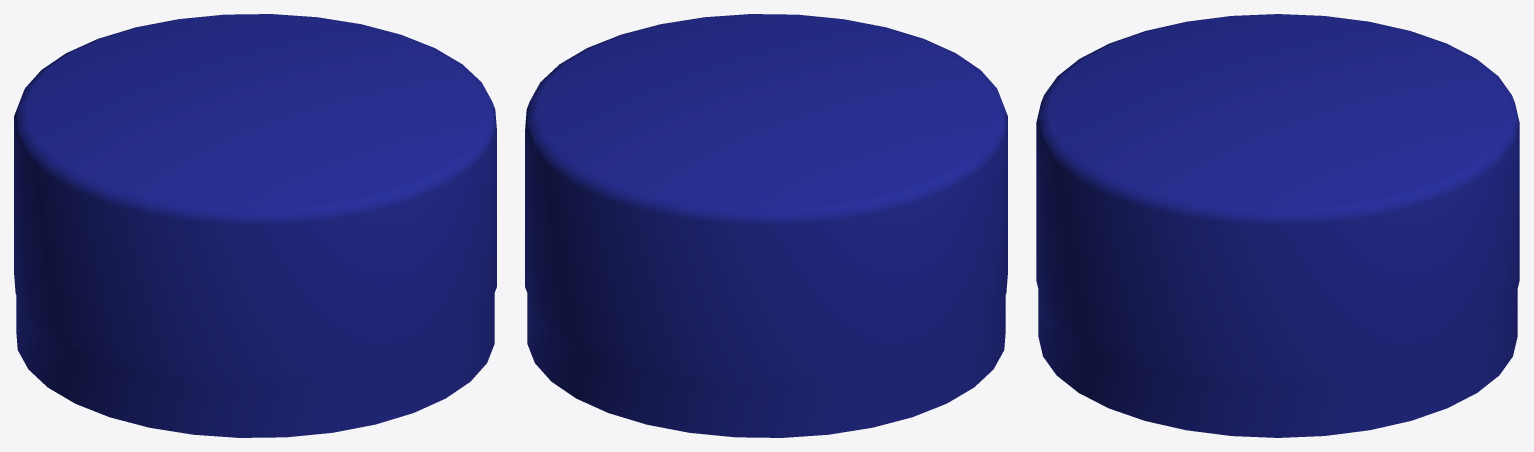
File: modelo10.glb
3 renders of one model, left to right at view 1: azimuth 30°, elevation 25°; view 2: azimuth 150°, elevation 25°; view 3: azimuth 270°, elevation 25°, orthographic.
Visible parts, largest first — view 1: node_id5; view 2: node_id5; view 3: node_id5.
Boxes of the visible parts, x1,y1,x2,y2 form: node_id5: [14, 14, 496, 437]; node_id5: [525, 14, 1007, 437]; node_id5: [1036, 14, 1519, 437].
Bounding box in the file's own units: 0.2845 × 0.1469 × 0.2845.
Materials: 1 (1 with a texture image).
